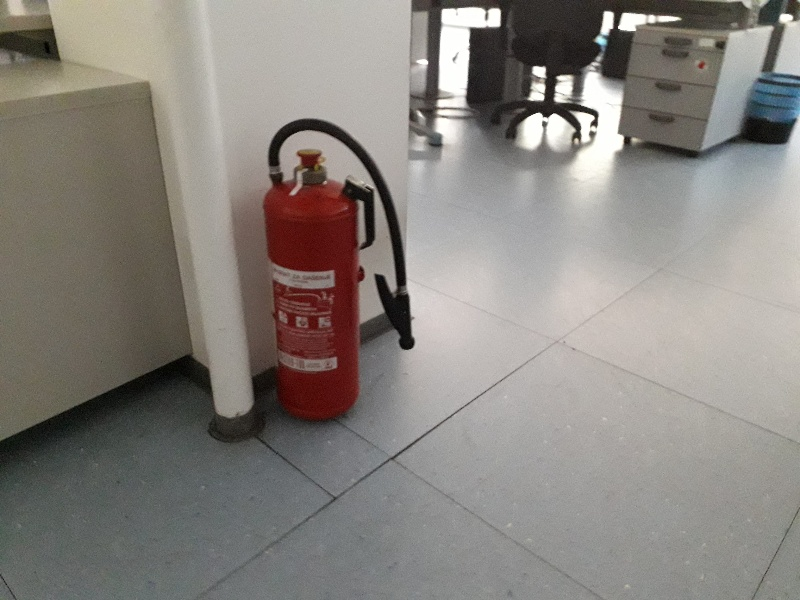vataparat: (263, 120, 415, 418)
